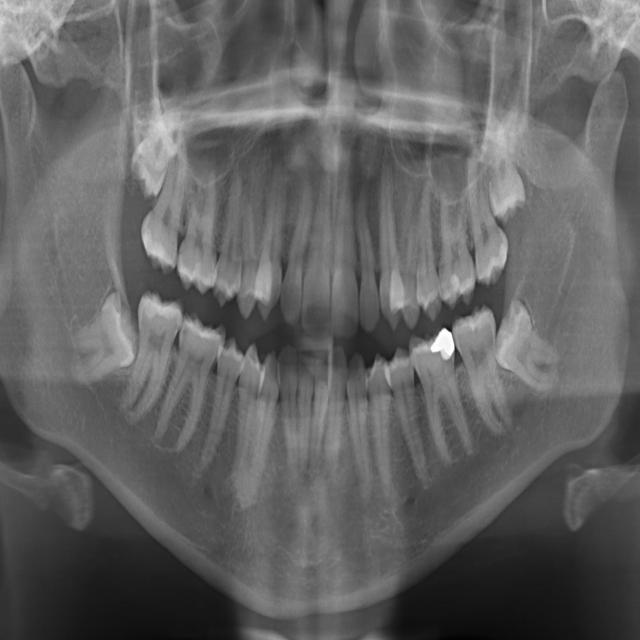AmalgamRestoration: (429, 326, 457, 361)
CompositeResinRestoration: (449, 262, 461, 296)
DentalCaries: (176, 319, 192, 346), (177, 241, 190, 264)
ImpactedTooth: (492, 291, 554, 388), (76, 294, 143, 370)
